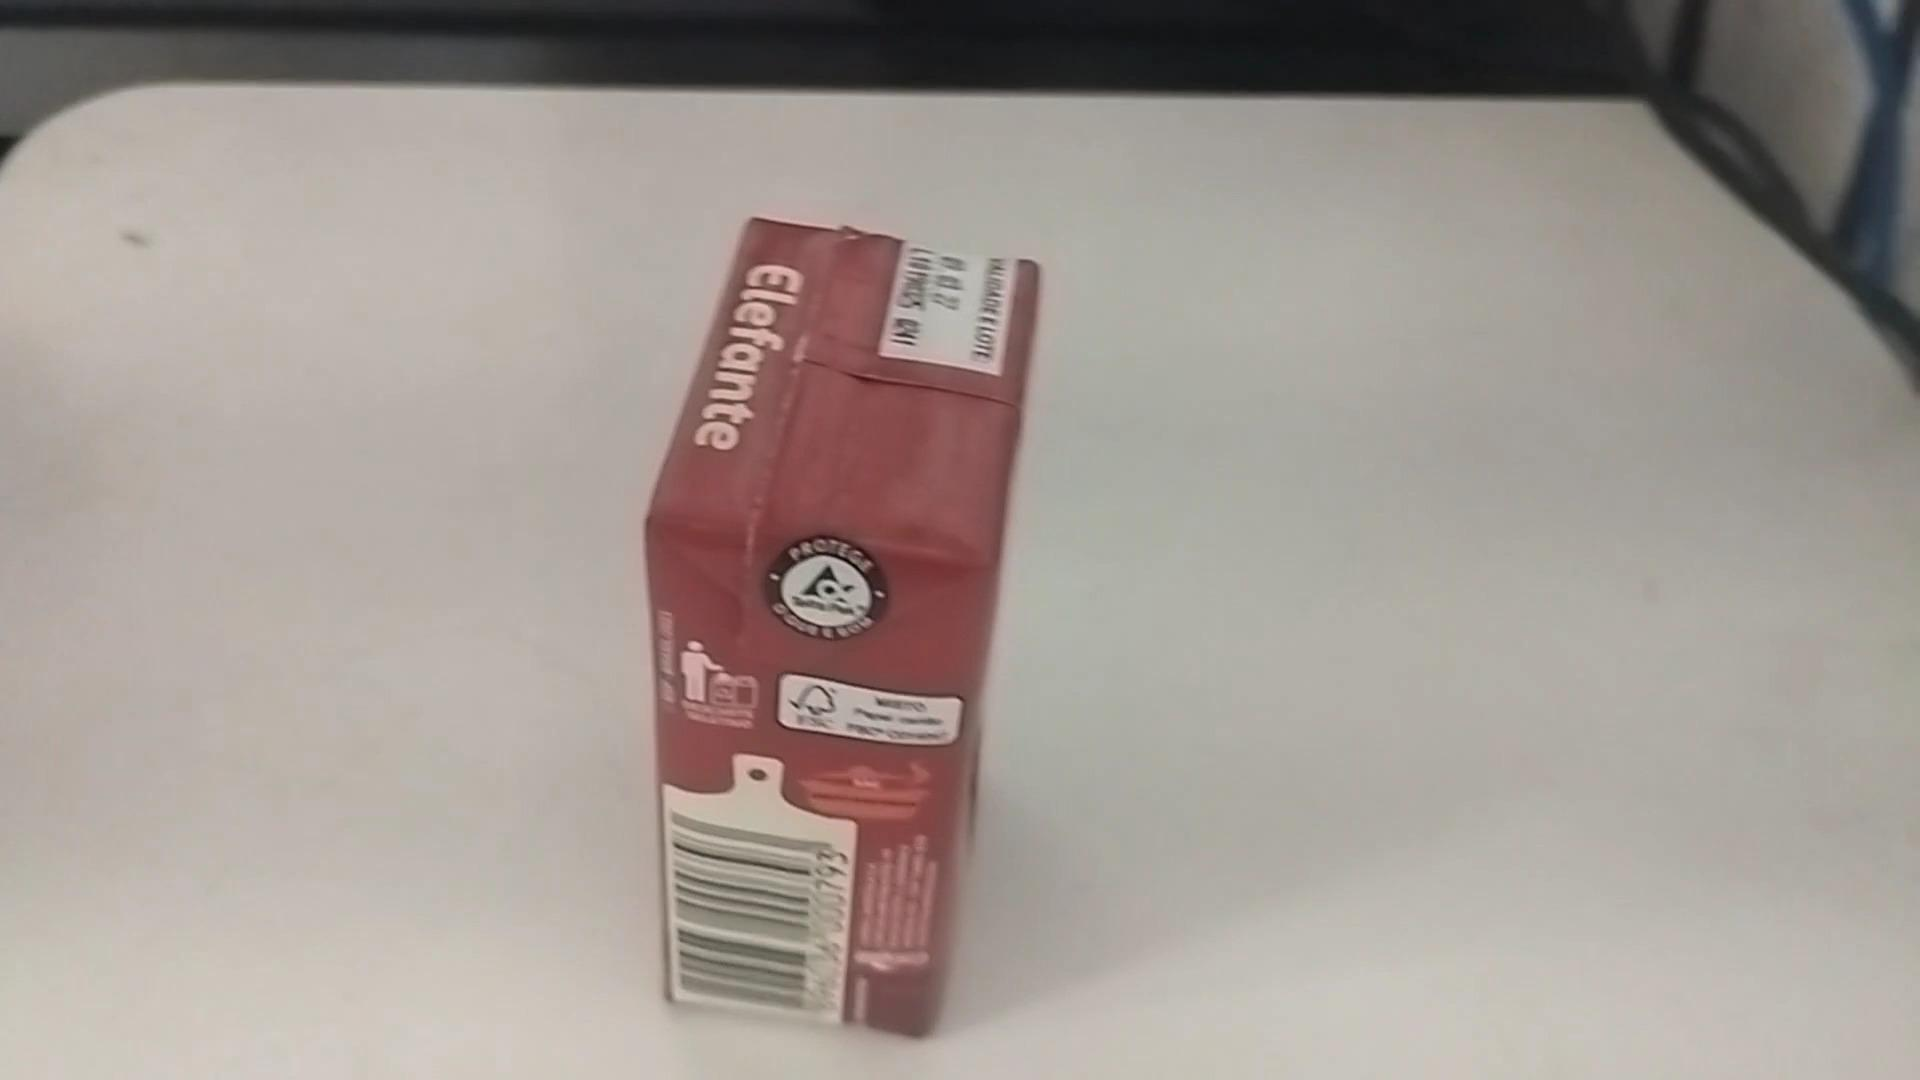tomate: (640, 206, 1059, 1039)
